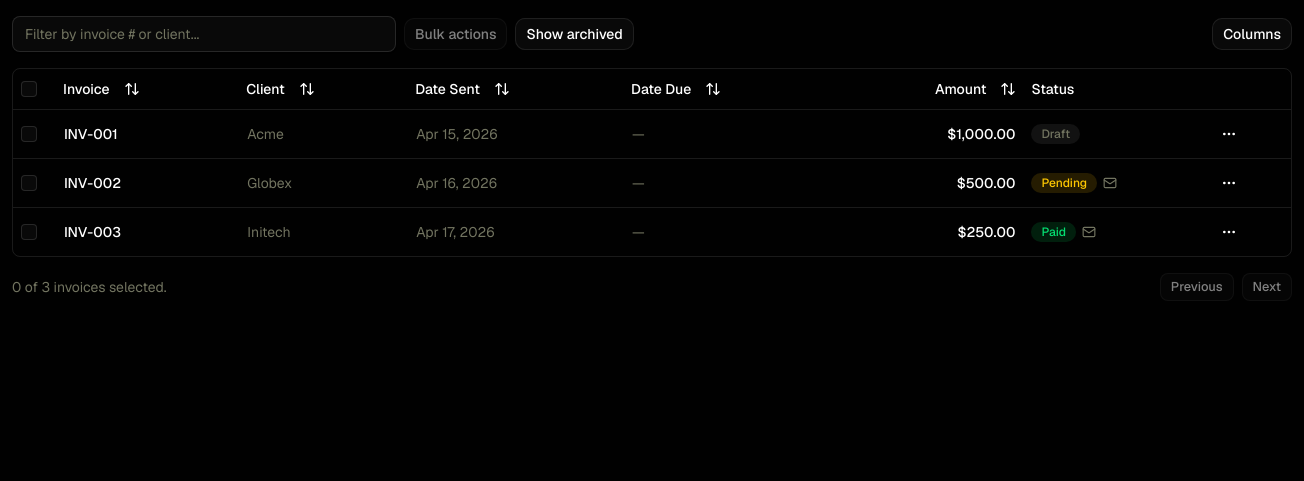
Test case: InvoiceDataTable — per-row actions › shows 'View public invoice' and 'Copy public link' for non-draft invoices
// second row is pending (inv-2)
Click the button named "open menu" in the row of "INV-002" at (1229, 182), box left=1213, top=166, right=1245, bottom=198
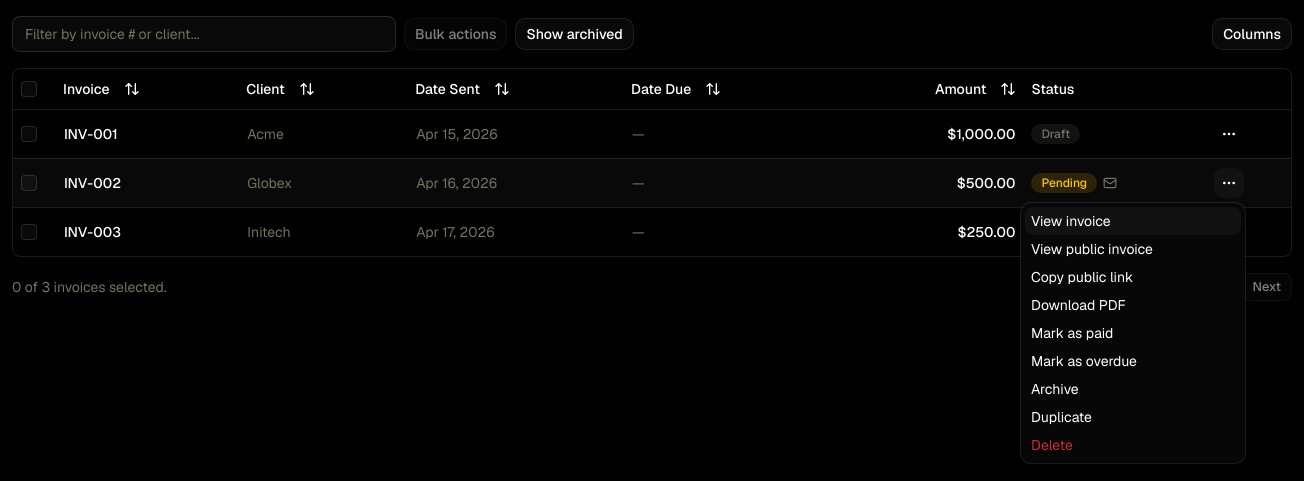
Expected: the menu item "View public invoice" is shown, left=1031, top=240, right=1153, bottom=258
Expected: the menu item "Copy public link" is shown, left=1031, top=268, right=1133, bottom=286
